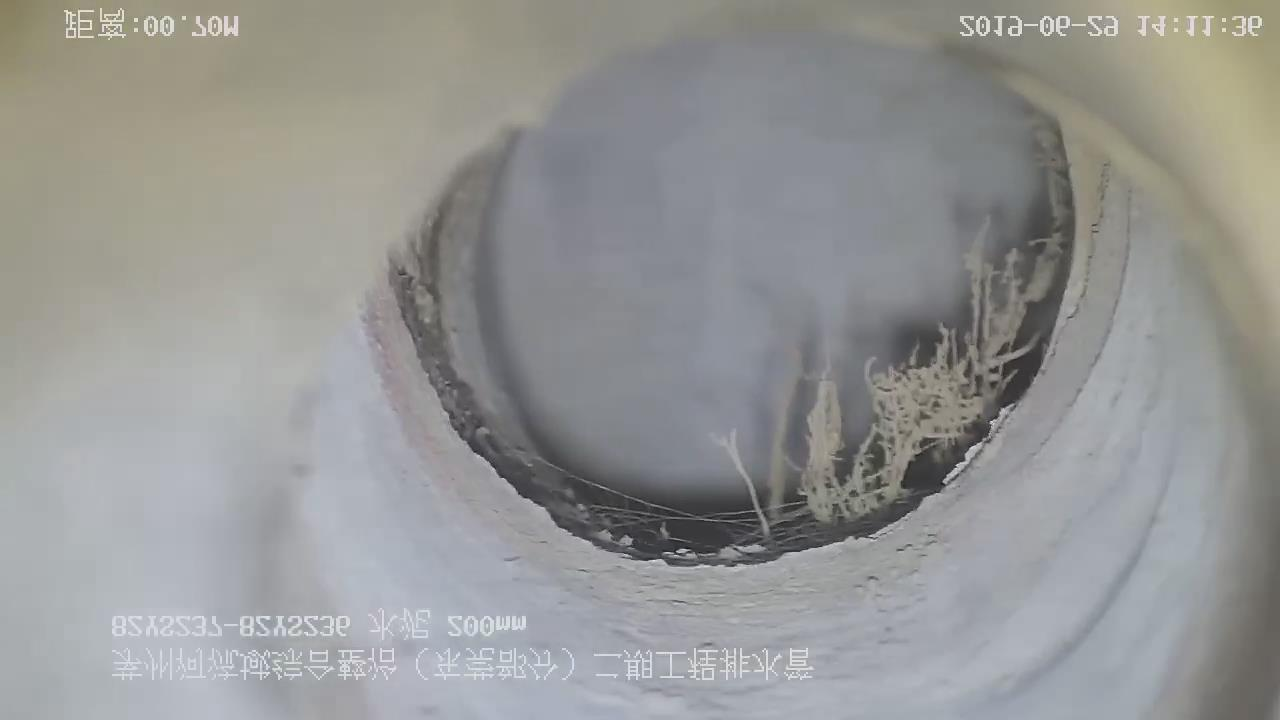SG: (722, 122, 1072, 551)
